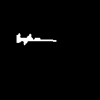double_crochet: (17, 34, 55, 44)
